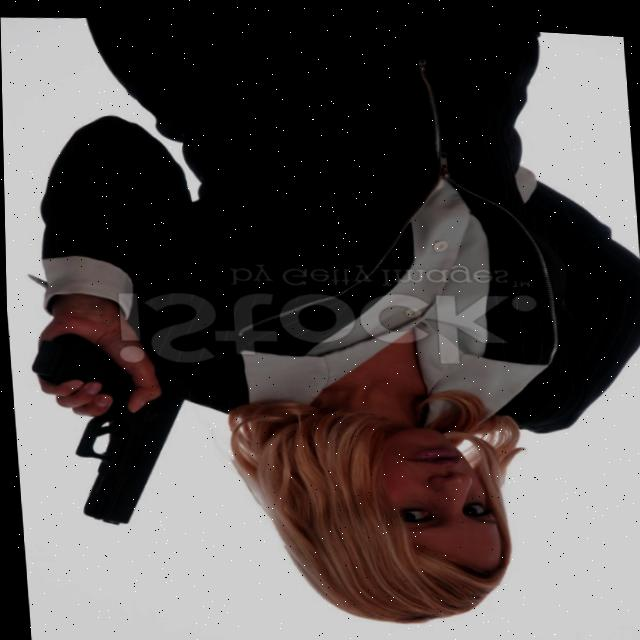pistol: (27, 322, 205, 534)
